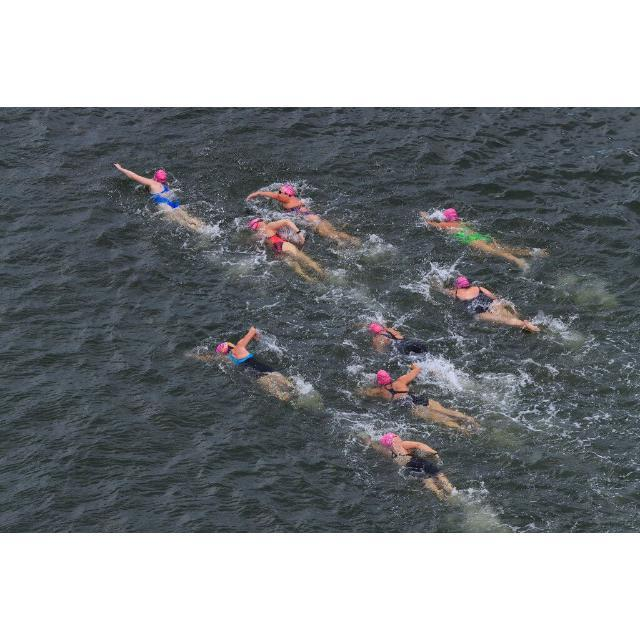human: (417, 199, 548, 266), (185, 321, 298, 397), (357, 359, 478, 429), (356, 422, 459, 500), (248, 173, 349, 244), (433, 273, 536, 336), (113, 157, 205, 225), (250, 214, 316, 281), (367, 320, 430, 360)
